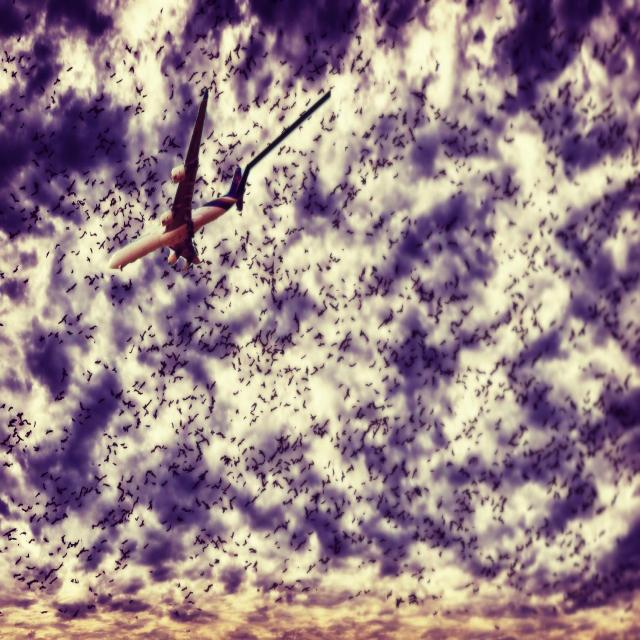airplane: (108, 83, 333, 273)
